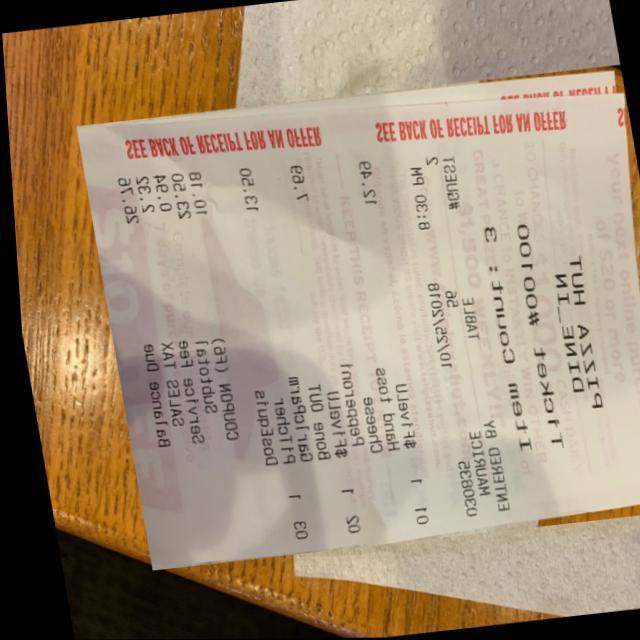Paper: (71, 64, 640, 570)
